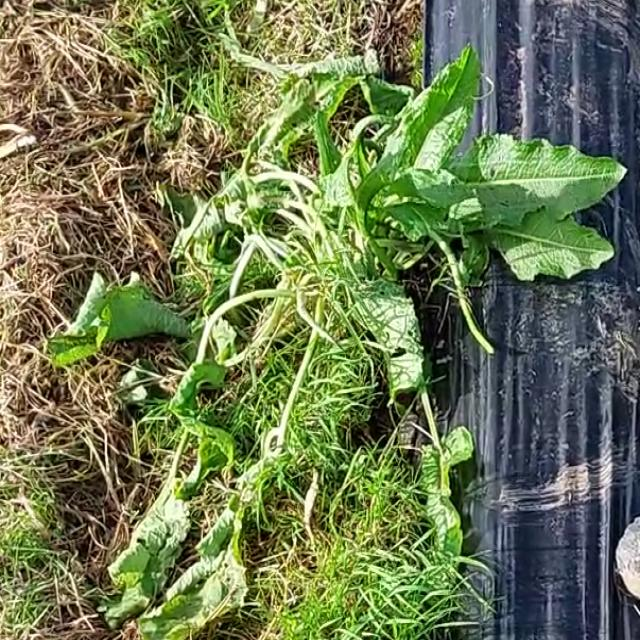organic waste: (243, 52, 612, 306), (84, 364, 263, 640), (19, 247, 235, 420)
